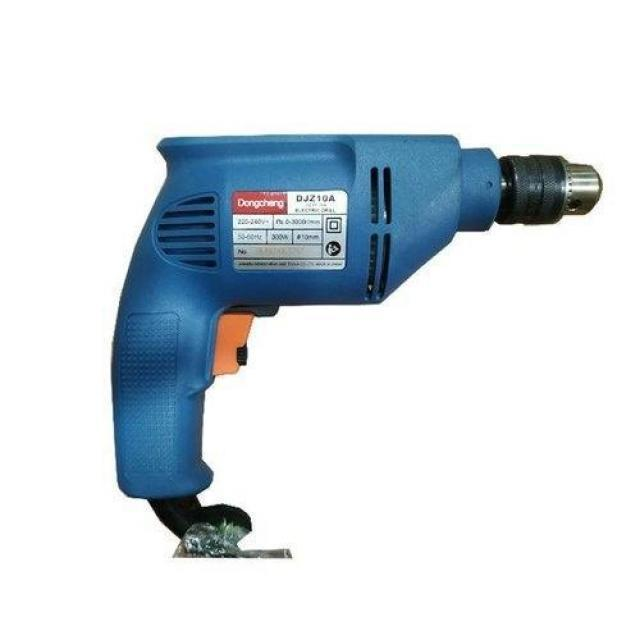drill: (110, 134, 604, 558)
